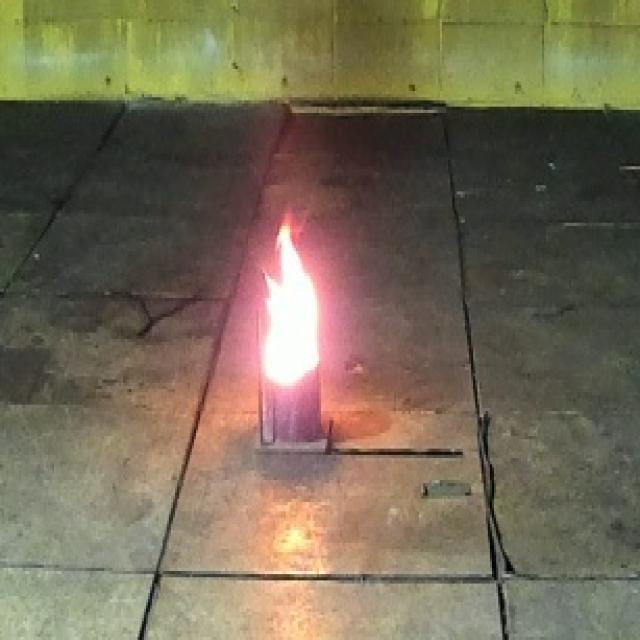Fire: (260, 203, 320, 387)
